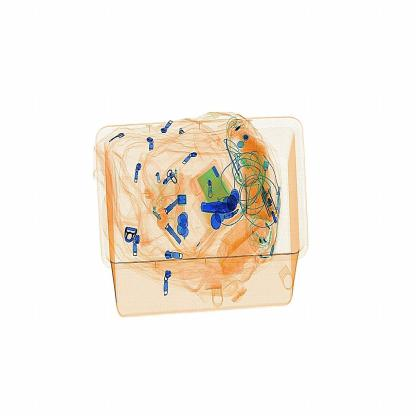knife: (196, 195, 237, 223)
